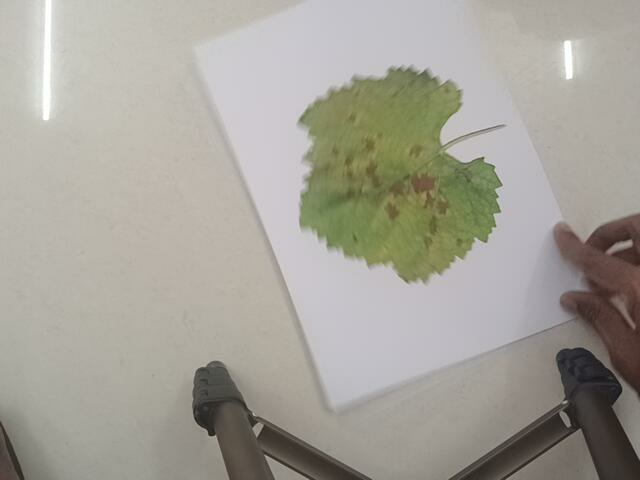Grape_Leaf_Vine_Disease: (302, 70, 527, 285)
